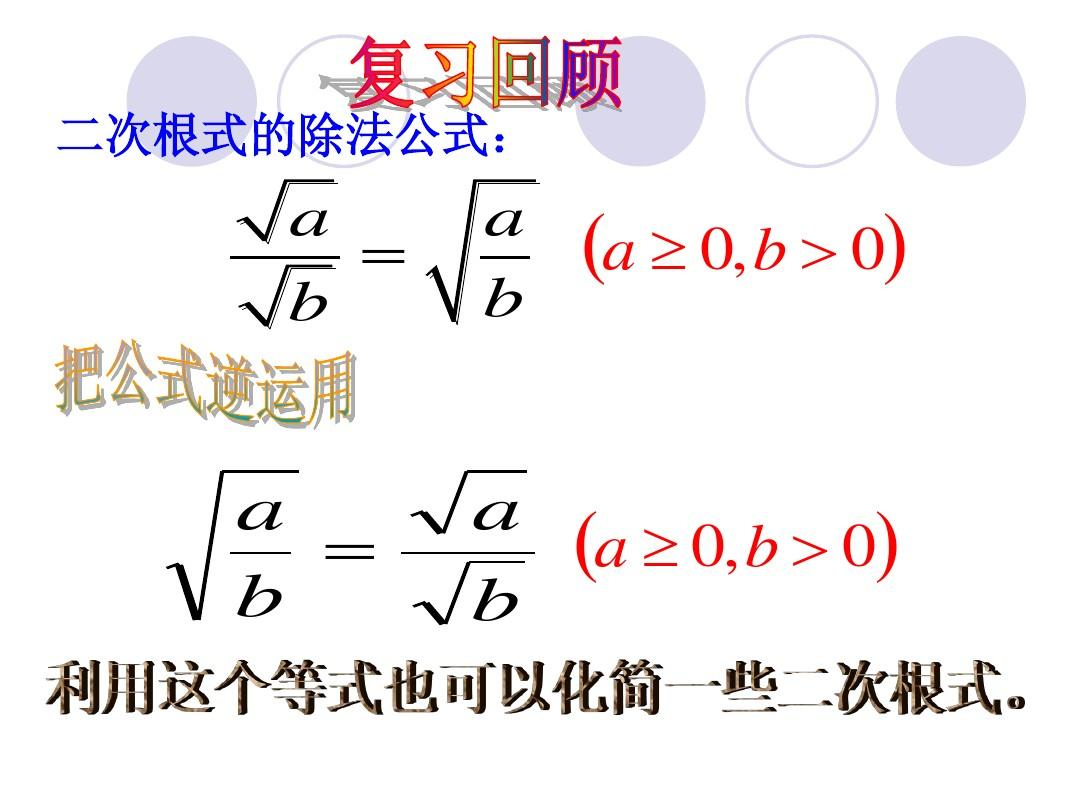division: (394, 547, 544, 567), (220, 249, 343, 263), (228, 546, 289, 561), (475, 252, 531, 264)
sqrt: (166, 464, 298, 635), (426, 178, 547, 331), (231, 244, 349, 331), (407, 468, 533, 546), (235, 168, 340, 254), (411, 554, 526, 623)
